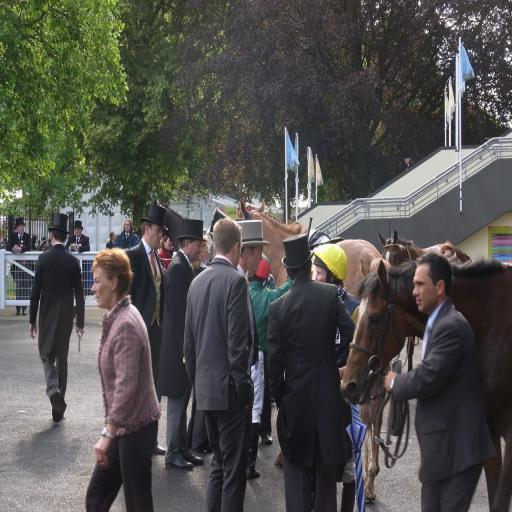horse: (338, 260, 512, 512), (238, 197, 384, 469), (378, 228, 474, 378)
